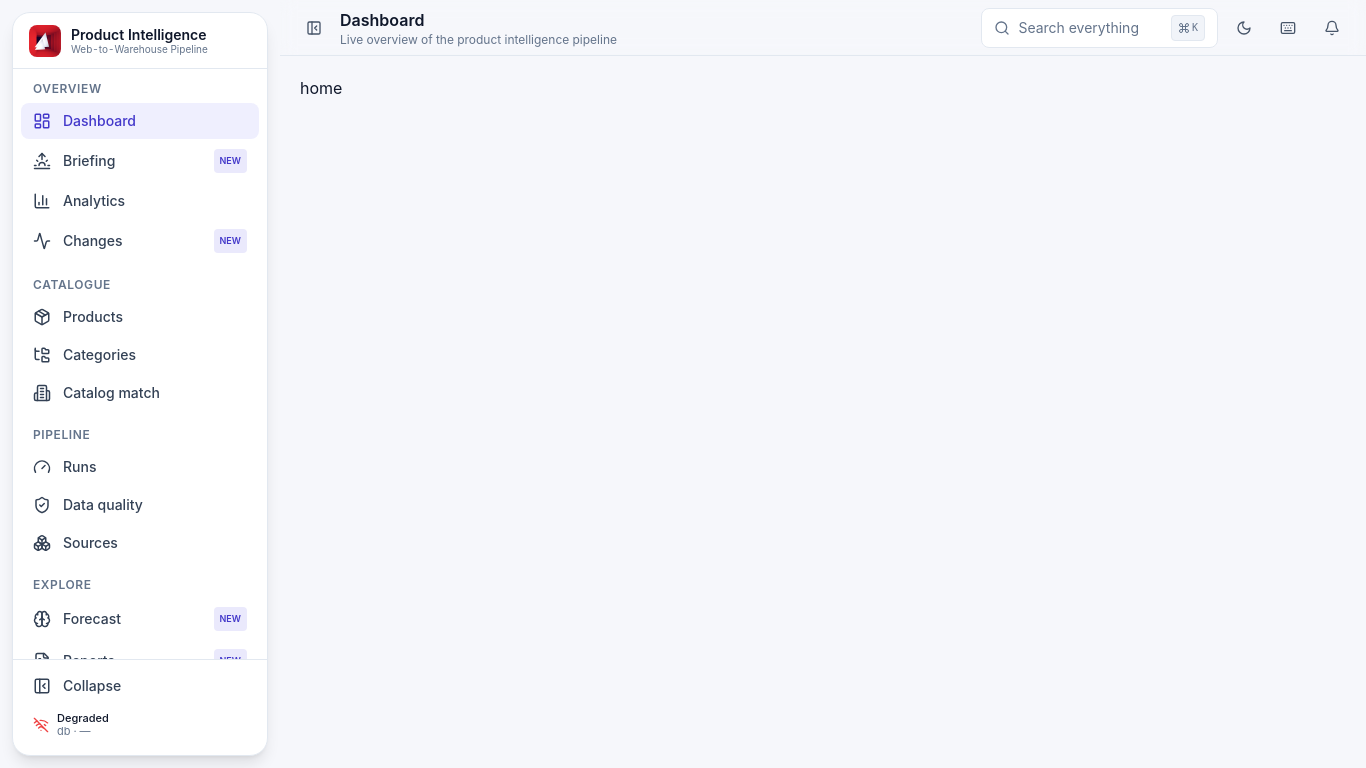
Test: app shell header › opens the shortcut reference on "?" and closes it on Escape
Check: the text "Keyboard shortcuts" is not shown
Step 1. Click the button named "keyboard shortcuts" → (1288, 28), box [1270, 10, 1306, 46]
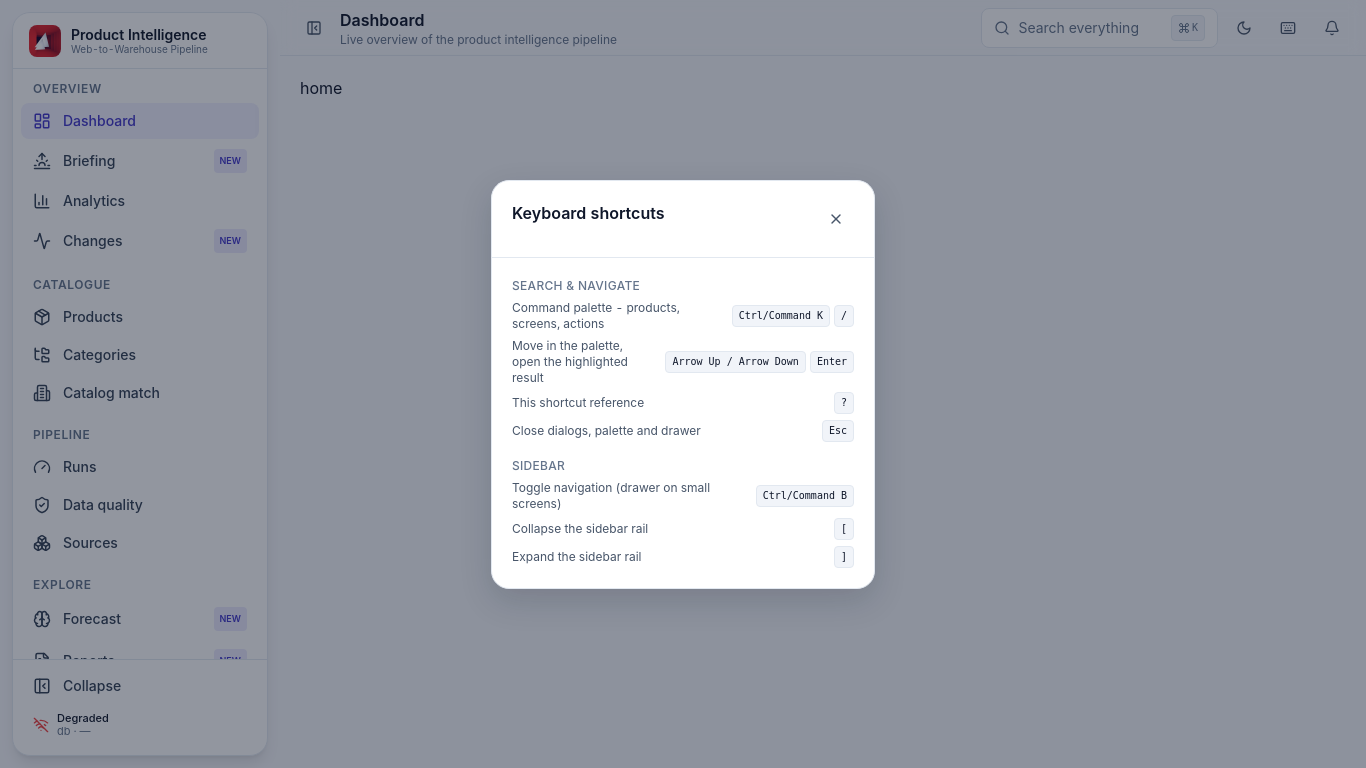
Check: the heading "Keyboard shortcuts" is shown, box [512, 200, 664, 224]
Check: the text "Command palette - products, screens, actions" is shown, box [512, 300, 680, 330]
Step 2. Press Escape
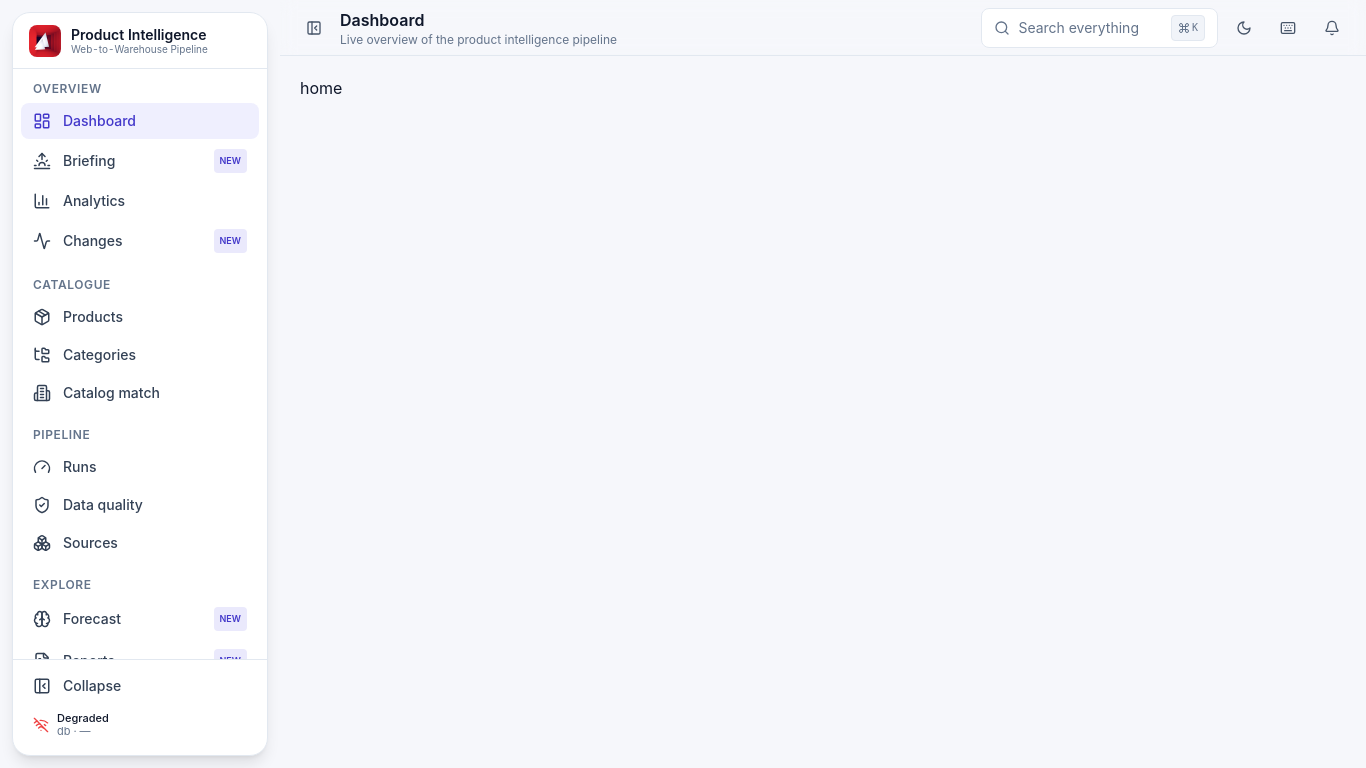
Check: the heading "Keyboard shortcuts" is gone
